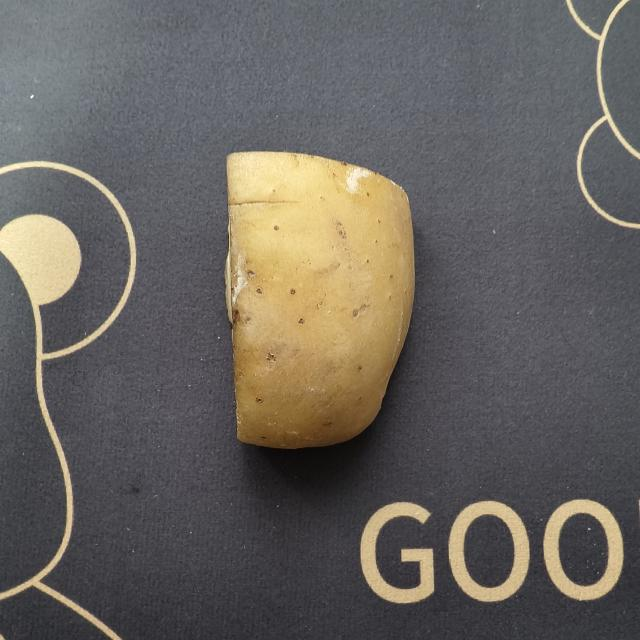-Kitchen waste - potato-: (226, 144, 417, 455)
